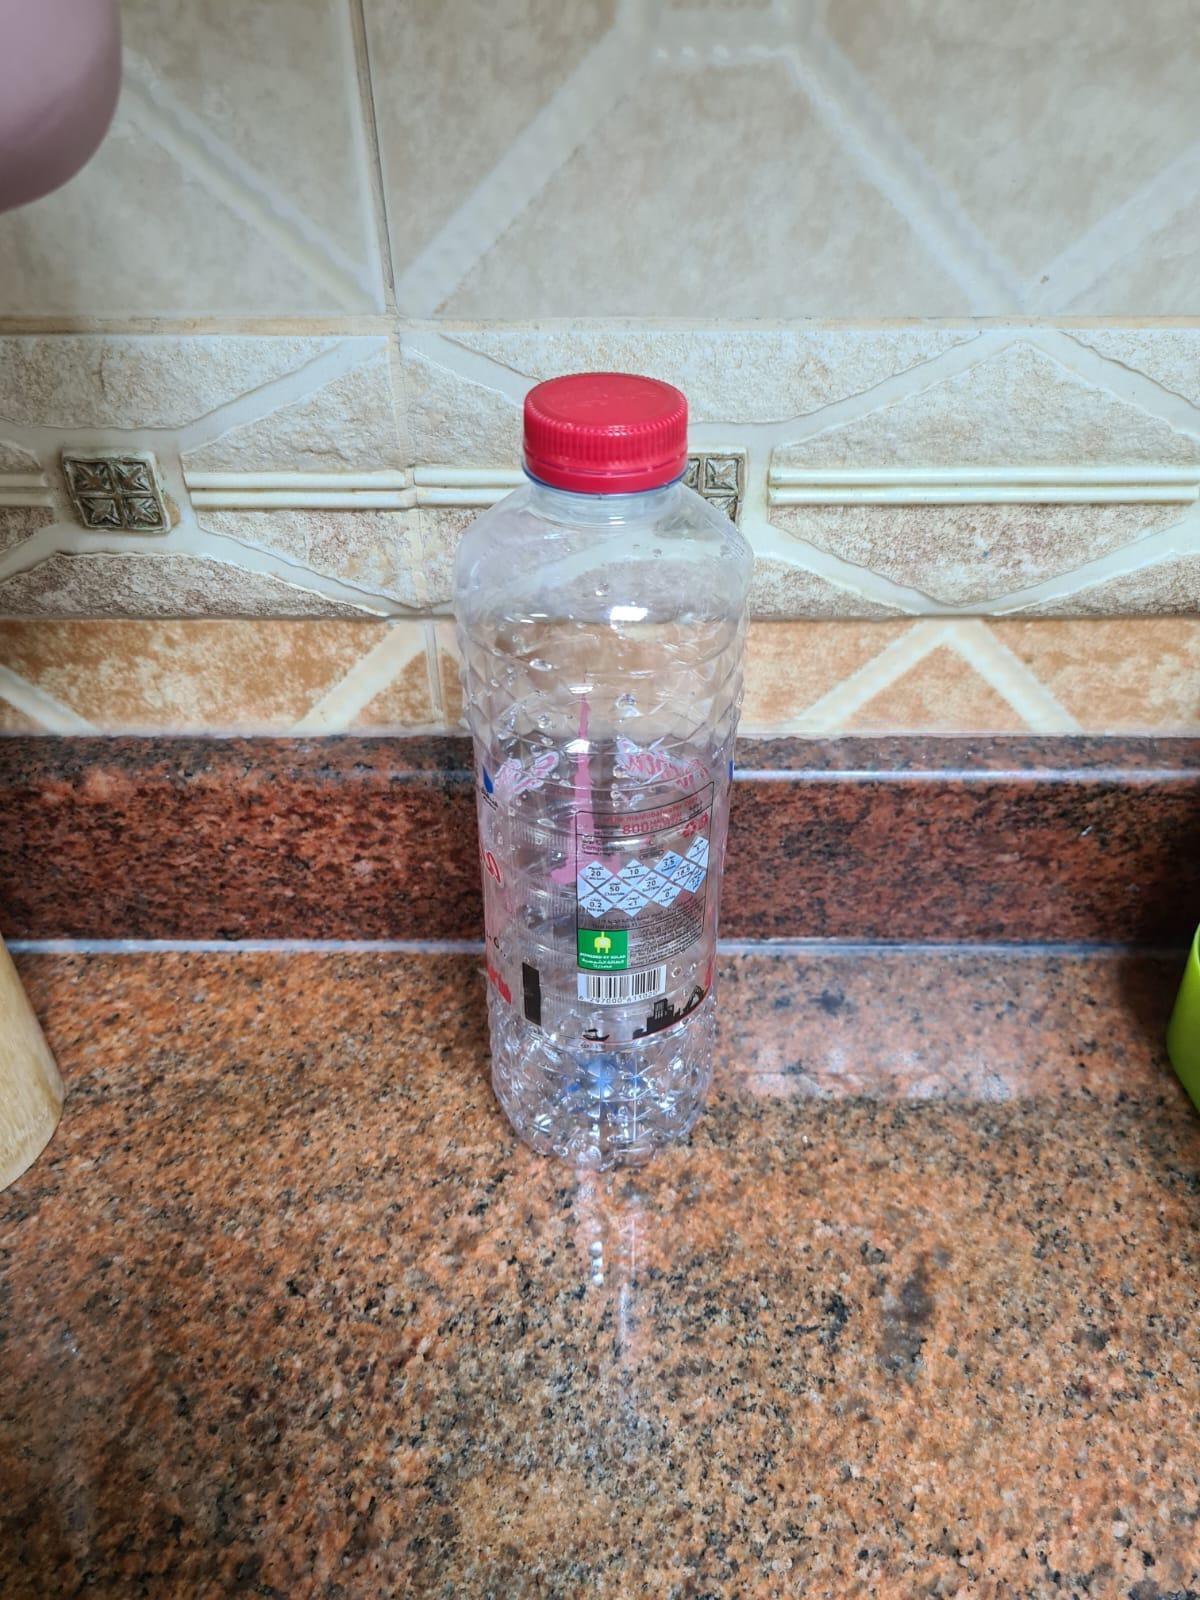bottle: (460, 374, 758, 1157)
